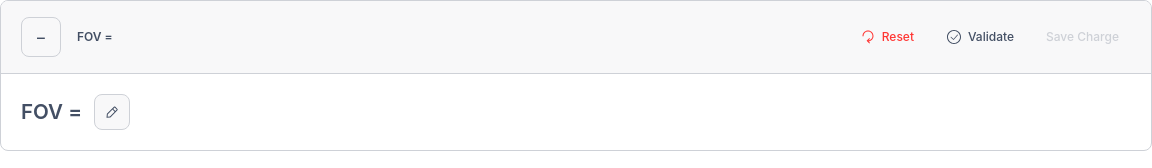
Scenario: FormulaBuilderBlock › expands content when the plus button is clicked after collapse
Note: Collapse first
Click the button "−" at x=41, y=37, box [21,17,61,57]
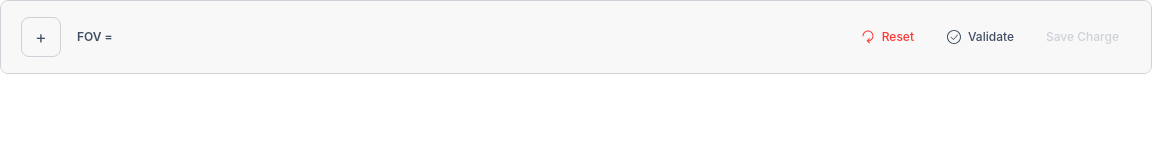
Expected: the text "+" is shown, [35,23,47,51]
Click the button "+" at x=41, y=37, box [21,17,61,57]
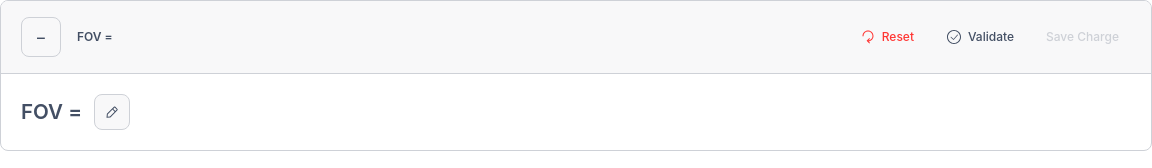
Expected: the text "−" is shown, [35,23,47,51]
